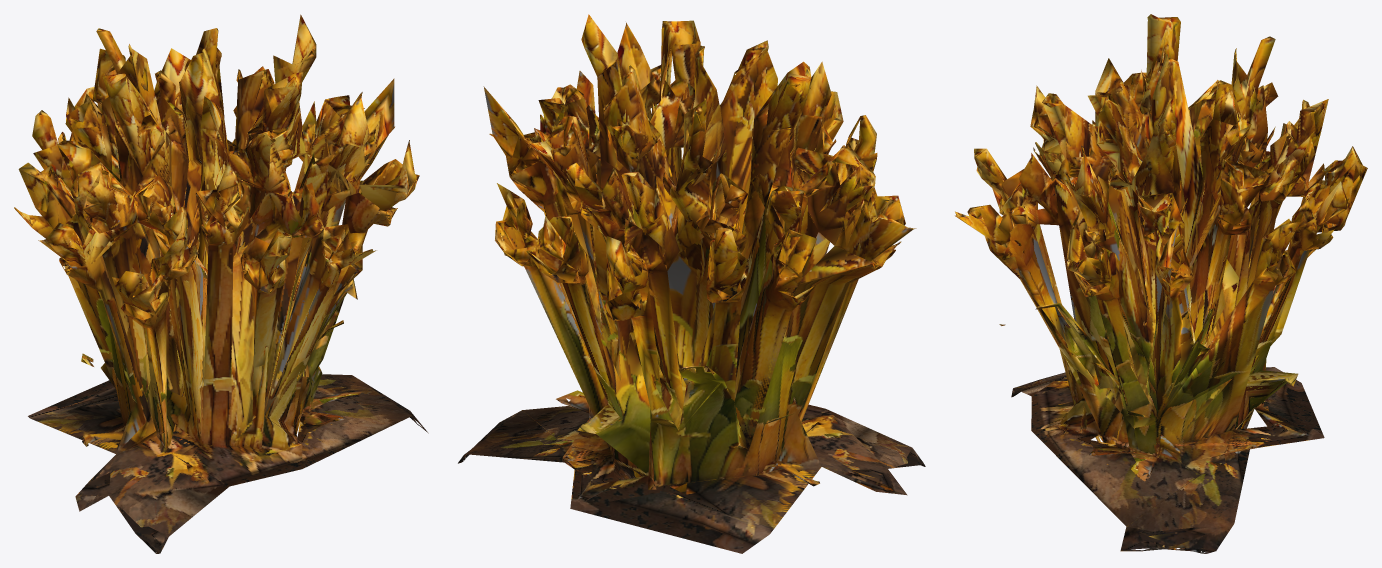
Rendered from Crop_Wheat_Ready.fbx.
3 views of the same model, side by side, from view 1: azimuth 30°, elevation 25°; view 2: azimuth 150°, elevation 25°; view 3: azimuth 270°, elevation 25° (orthographic). The views are drawn at different scales.
Visible parts, largest first — view 1: texture_mapping; view 2: texture_mapping; view 3: texture_mapping.
Boxes of the visible parts, bbox=[...] form: texture_mapping: bbox=[14, 14, 428, 553]; texture_mapping: bbox=[458, 14, 925, 553]; texture_mapping: bbox=[955, 14, 1367, 553].
Size of the model in its own units: 0.8312 by 0.8025 by 0.8835.
Materials: 1 (1 with a texture image).
